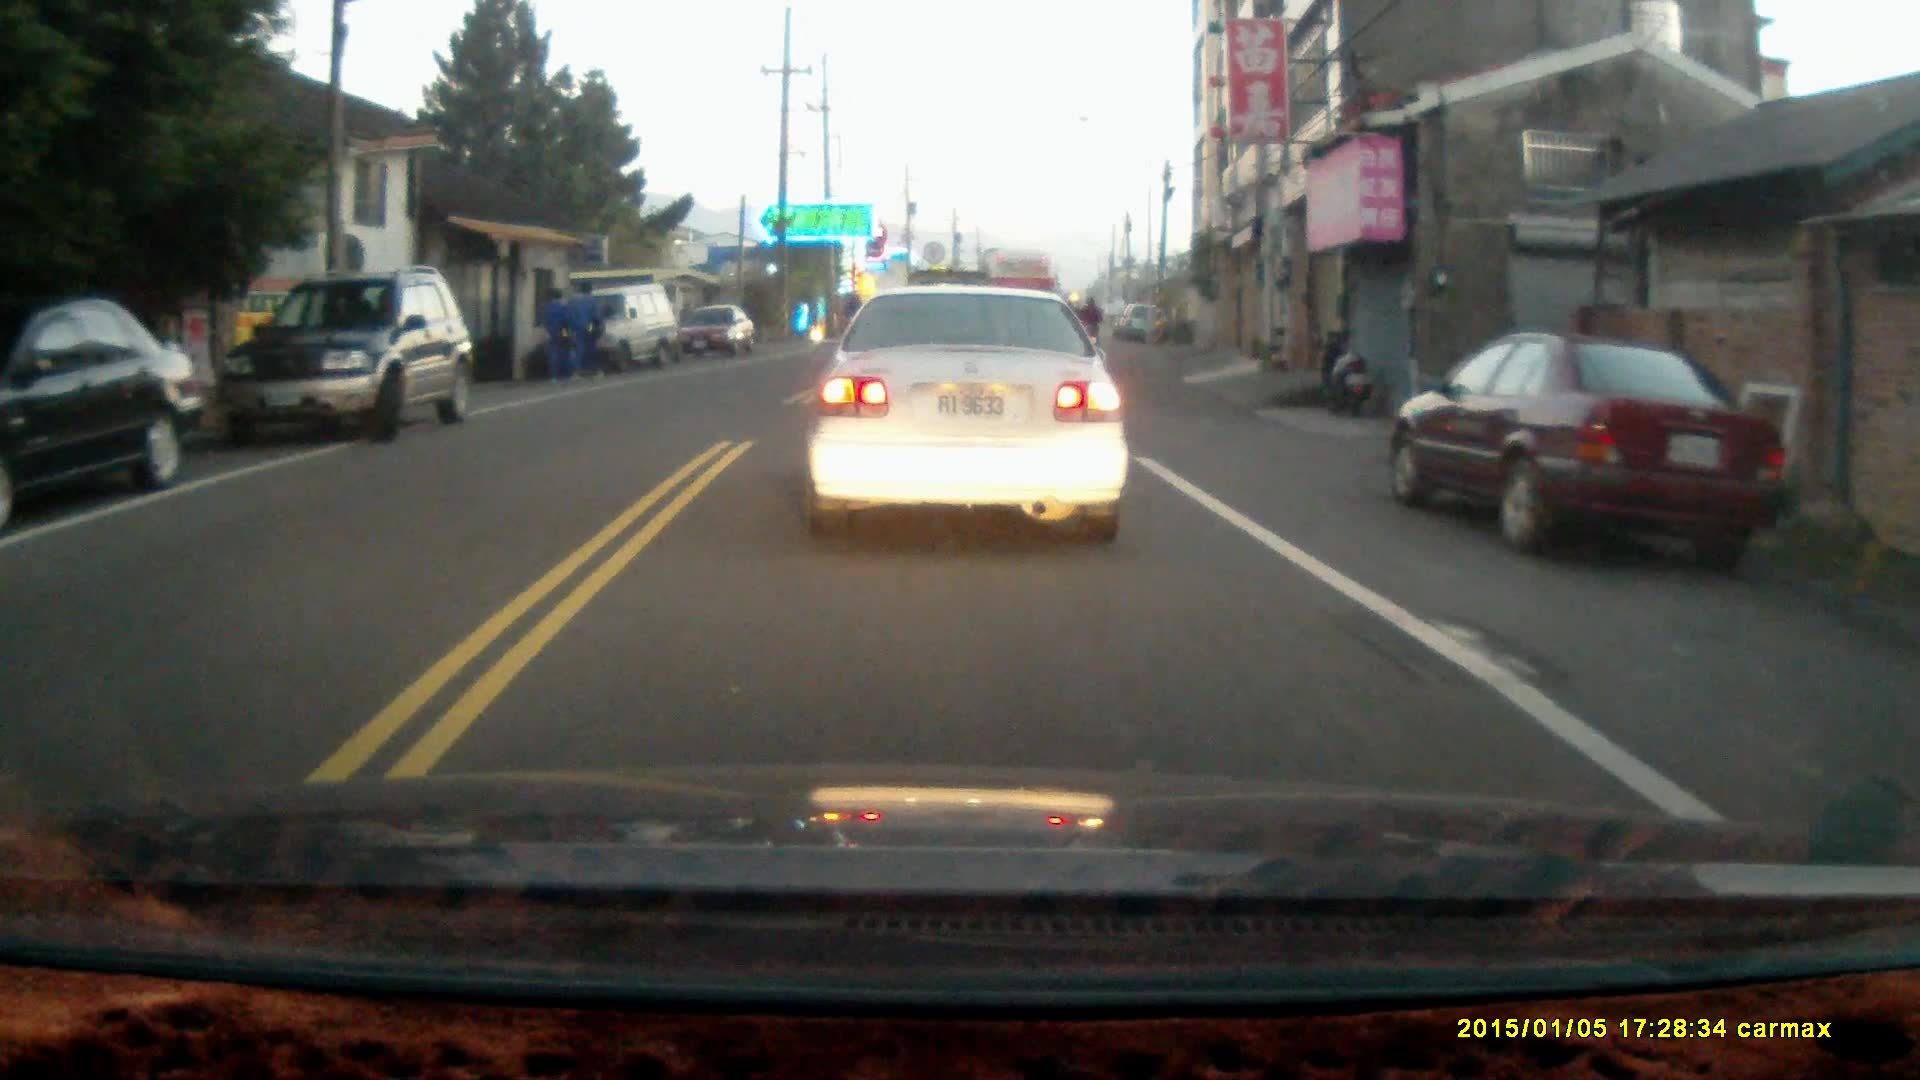pedestrian: (536, 285, 570, 385), (571, 277, 603, 382)
vehicle: (1383, 329, 1789, 563), (807, 278, 1133, 543), (1, 297, 207, 533), (216, 268, 473, 443), (567, 283, 693, 371), (672, 305, 757, 361)
